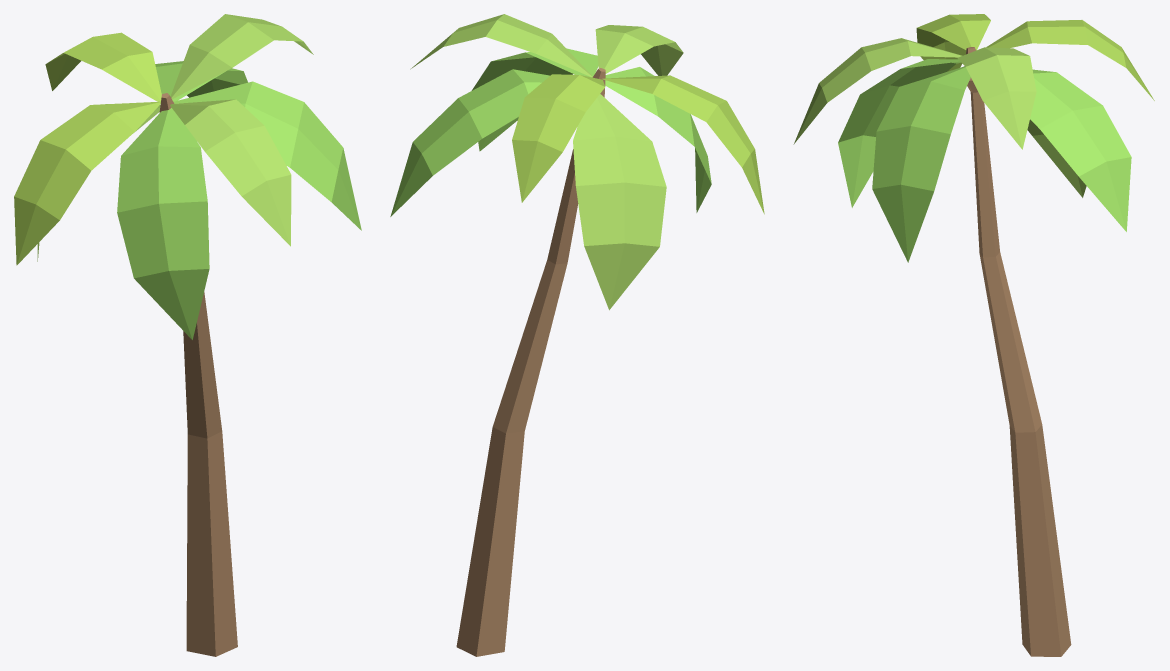
The model's file is Palm_Tree_OneSided_m_06.fbx.
3 renders of one model, left to right at view 1: azimuth 30°, elevation 25°; view 2: azimuth 150°, elevation 25°; view 3: azimuth 270°, elevation 25°, orthographic. The views are drawn at different scales.
Parts seen in each view (by area): view 1: Palm_Tree_OneSided_m_06; view 2: Palm_Tree_OneSided_m_06; view 3: Palm_Tree_OneSided_m_06.
Part boxes in pixels (x1,y1,x2,y2): Palm_Tree_OneSided_m_06: (14,14,361,656); Palm_Tree_OneSided_m_06: (390,14,764,656); Palm_Tree_OneSided_m_06: (793,14,1154,656).
Size of the model in its own units: 290 by 526 by 289.
